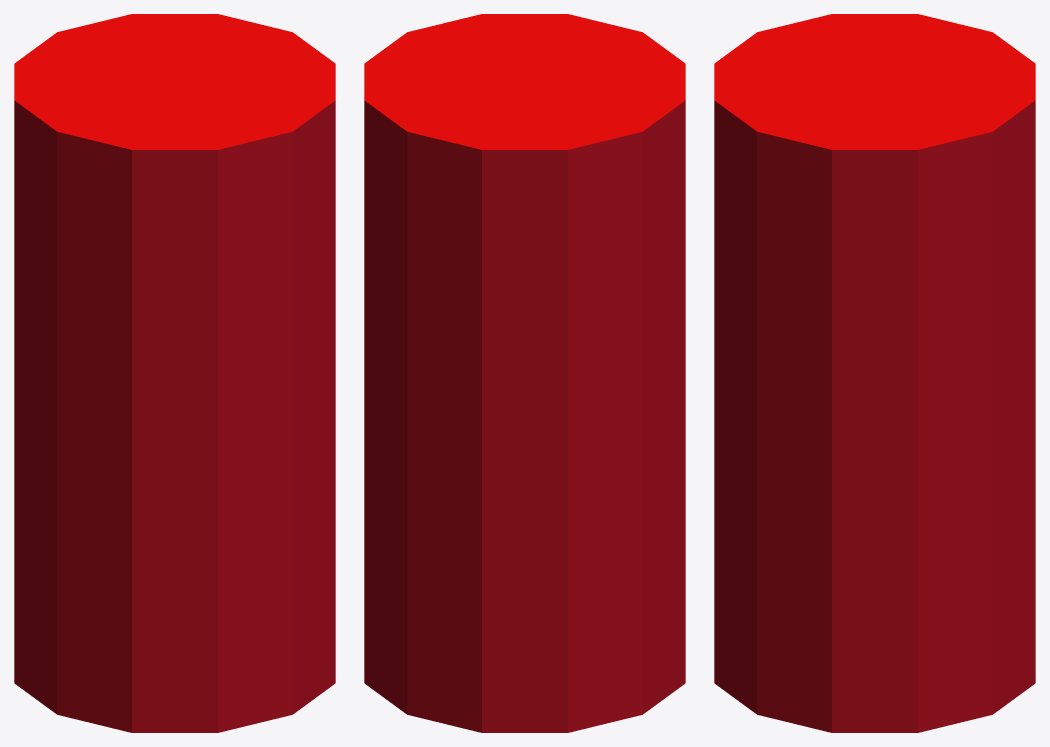
Rendered from can.gltf.
The picture shows the model from 3 angles, left to right: view 1: azimuth 30°, elevation 25°; view 2: azimuth 150°, elevation 25°; view 3: azimuth 270°, elevation 25°; orthographic projection.
Visible parts, largest first — view 1: cylinder, top; view 2: cylinder, top; view 3: cylinder, top.
Part boxes in pixels (x1,y1,x2,y2): cylinder: (14, 100, 335, 732); top: (14, 14, 335, 149); cylinder: (364, 100, 685, 732); top: (364, 14, 685, 149); cylinder: (714, 100, 1035, 732); top: (714, 14, 1035, 149).
Bounding box in the file's own units: 0.75 × 1.5 × 0.75.
1 material, 1 textured.
